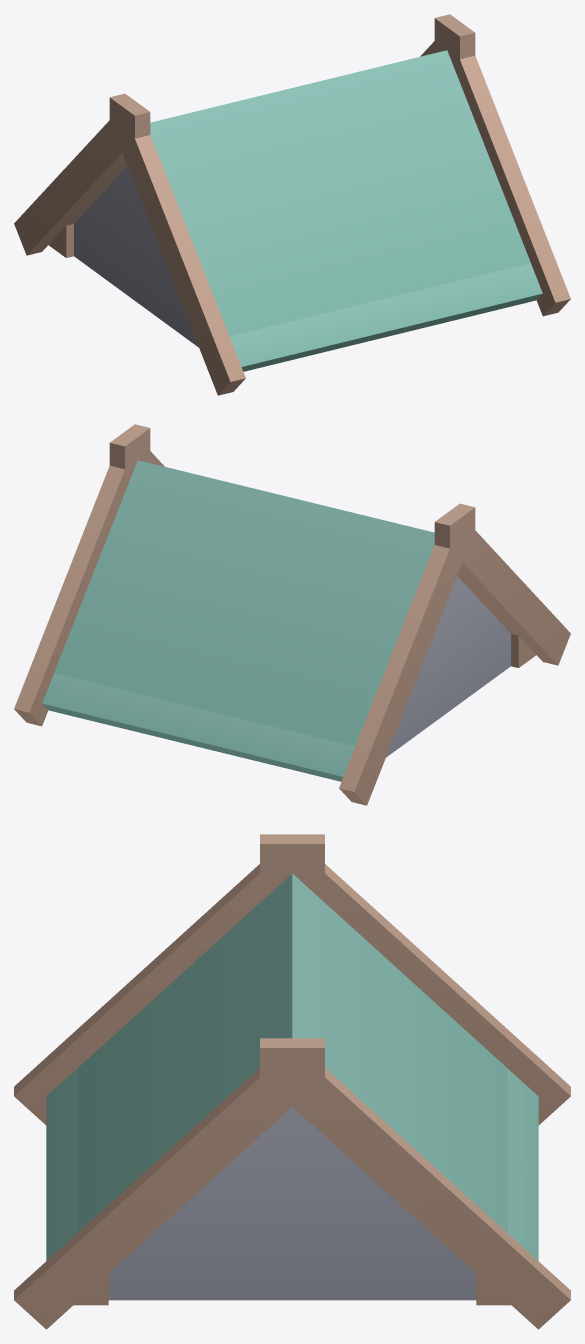
The model's file is roof-gable-detail.glb.
3 views of the same model, one above another, from view 1: azimuth 30°, elevation 25°; view 2: azimuth 150°, elevation 25°; view 3: azimuth 270°, elevation 25° (orthographic). The views are drawn at different scales.
Visible parts, largest first — view 1: roof-gable-detail; view 2: roof-gable-detail; view 3: roof-gable-detail.
Part boxes in pixels (x1,y1,x2,y2): roof-gable-detail: (14,14,570,395); roof-gable-detail: (14,424,570,805); roof-gable-detail: (14,834,570,1329).
Bounding box in the file's own units: 1.1 × 0.6768 × 1.21.
